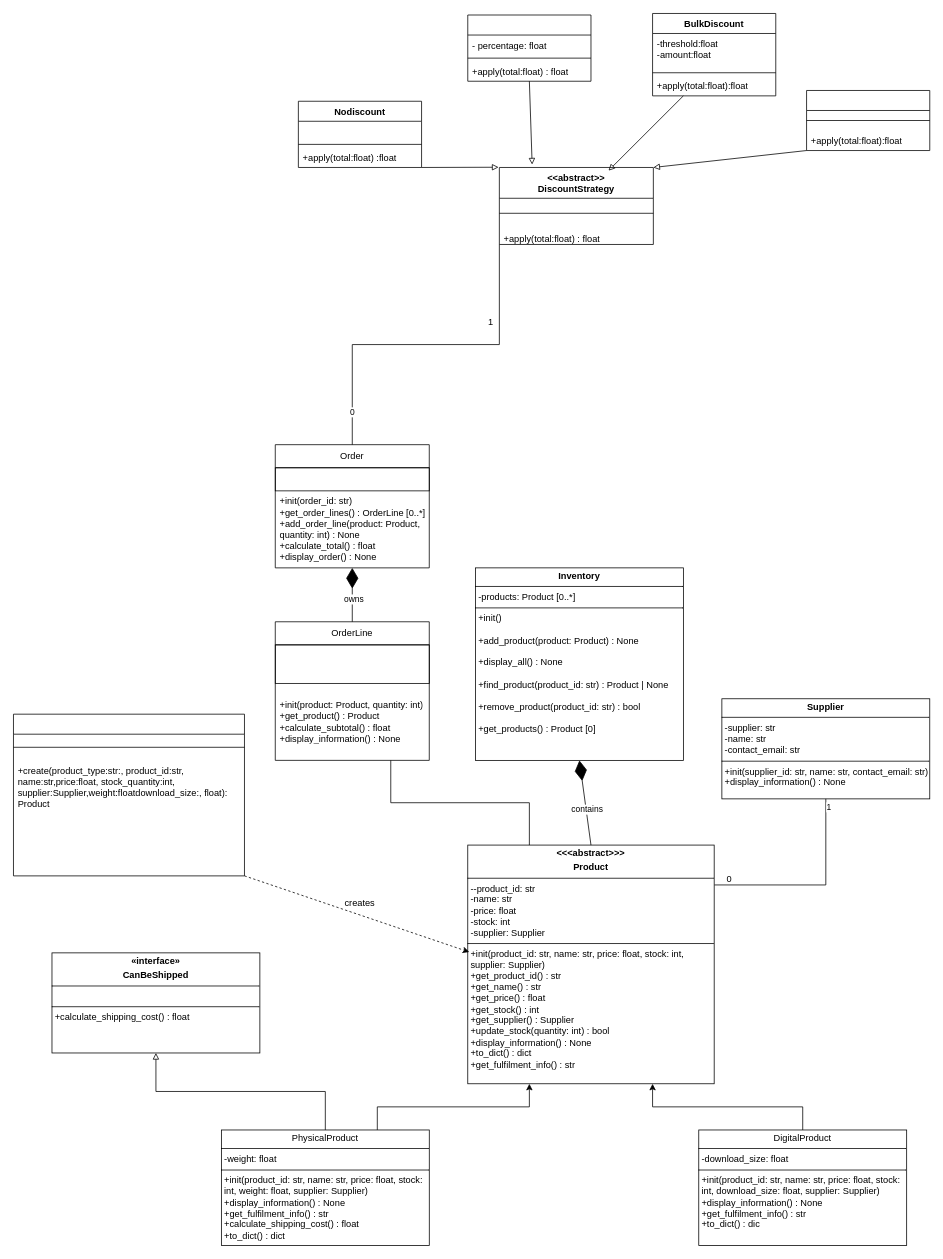
The diagram is 943 pixels wide and 1259 high, and some of its shapes have lost their labels. Here are the shapes that lost their labels. From the top down, the box of each, then its label:
(467, 14, 591, 81): PercentageDiscount
(806, 90, 930, 151): StudentDiscount
(275, 467, 429, 491): -order_id=str -order_lines: OrderLine[]
(275, 644, 429, 683): -product: Product -quantity: in
(13, 713, 244, 876): ProductFactory
